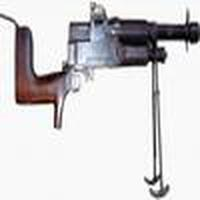gun: (3, 13, 200, 126)
